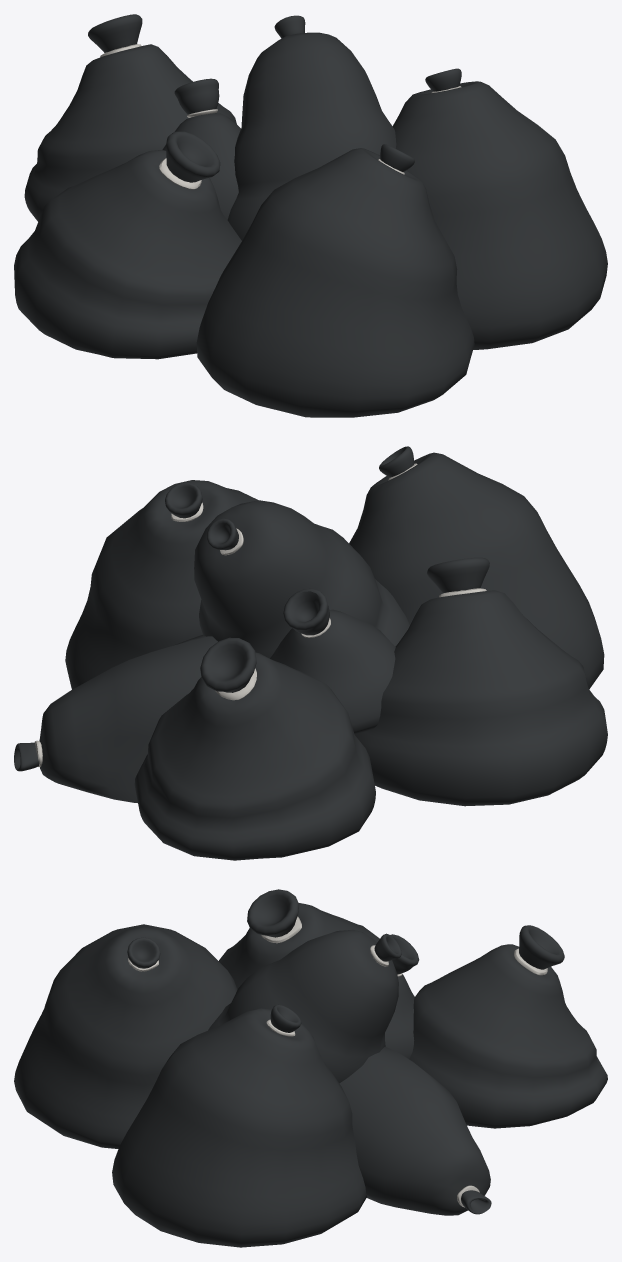
File: Montaña_Basura_04.fbx
The picture shows the model from 3 angles, top to bottom: view 1: azimuth 30°, elevation 25°; view 2: azimuth 150°, elevation 25°; view 3: azimuth 270°, elevation 25°; orthographic projection. The views are drawn at different scales.
Parts seen in each view (by area): view 1: Montaña_Basura_04; view 2: Montaña_Basura_04; view 3: Montaña_Basura_04.
Part boxes in pixels (x1,y1,x2,y2): Montaña_Basura_04: (14,14,607,417); Montaña_Basura_04: (14,446,607,860); Montaña_Basura_04: (14,889,607,1247).
Bounding box in the file's own units: 420 × 207 × 459.
